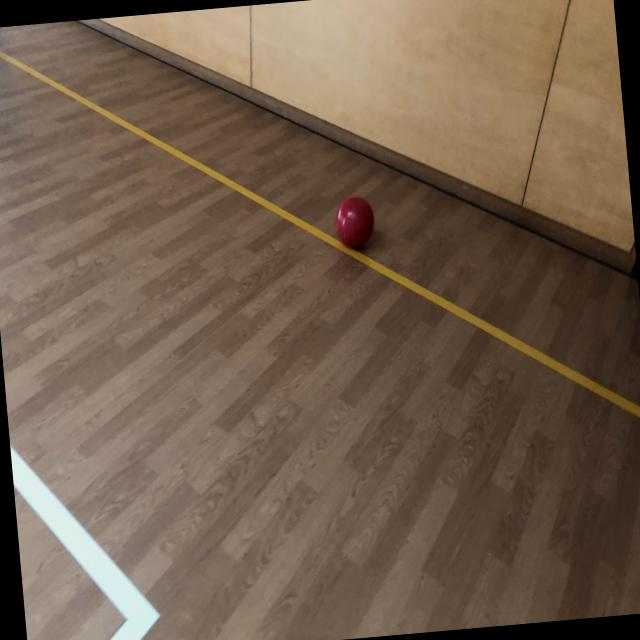red_ball: (334, 192, 376, 249)
